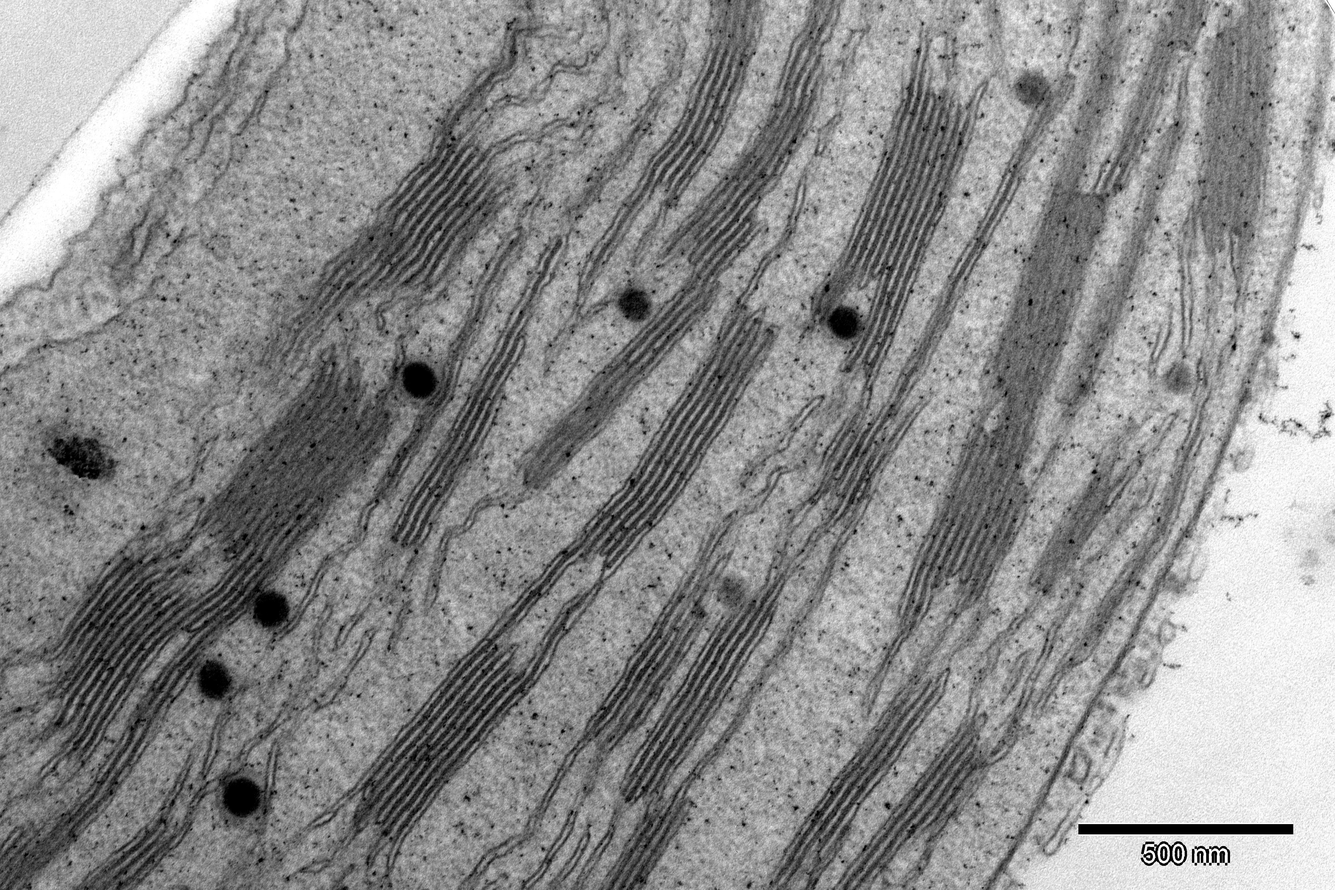granum: (270, 117, 522, 365), (574, 294, 780, 575), (974, 36, 1127, 402), (43, 518, 267, 767), (0, 632, 216, 890), (804, 69, 983, 375), (185, 342, 402, 594), (656, 0, 843, 282), (508, 271, 726, 498), (350, 632, 536, 846), (886, 397, 1047, 634), (612, 587, 781, 810), (775, 666, 948, 878), (1054, 128, 1185, 407), (580, 525, 736, 756), (379, 322, 529, 550), (828, 719, 983, 890), (637, 0, 770, 198), (1092, 0, 1215, 211), (1188, 0, 1282, 260), (1022, 469, 1128, 604), (814, 397, 911, 512), (71, 805, 200, 889), (594, 790, 700, 890)
